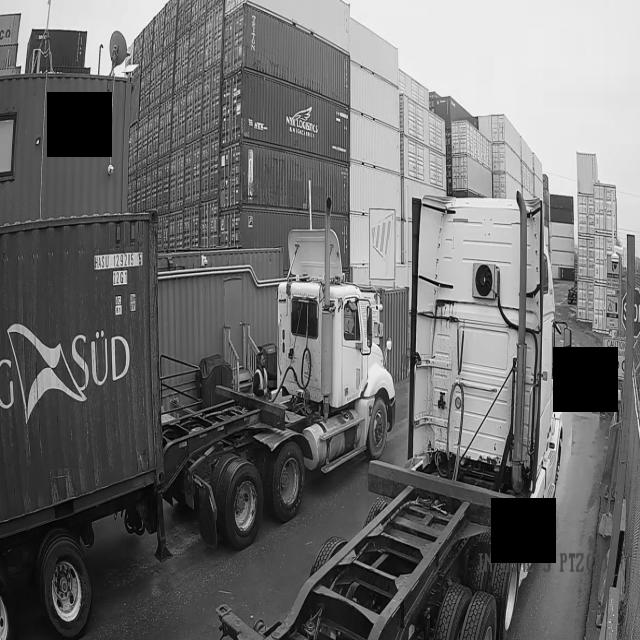container_side_no: (90, 239, 151, 286)
truck_with_container: (0, 213, 395, 640)
truck_without_container: (218, 195, 573, 640)
